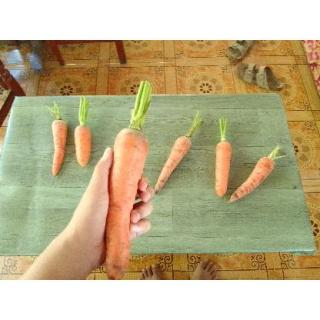Wortel: (24, 91, 291, 239)
